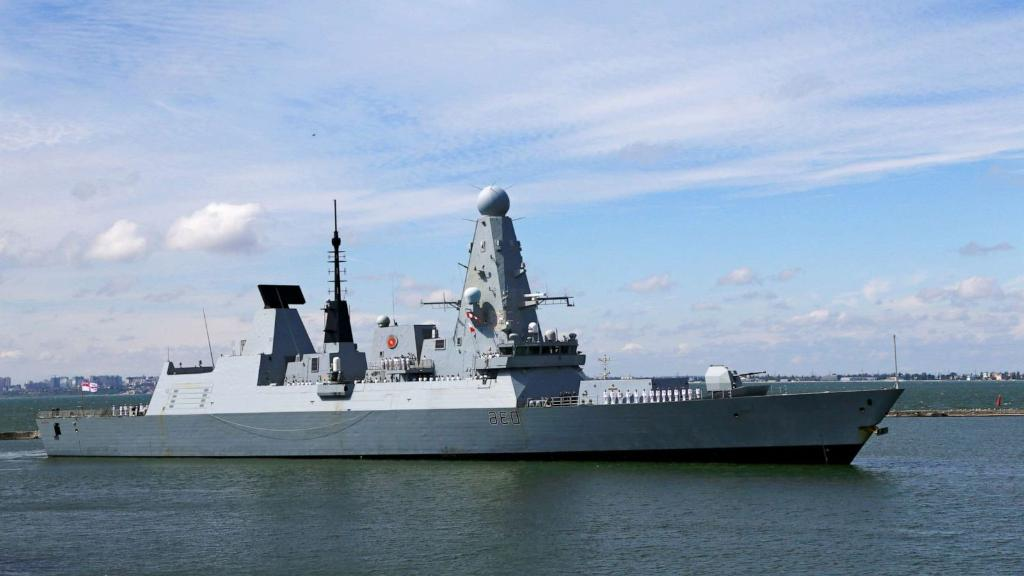Warship: (25, 173, 917, 464)
